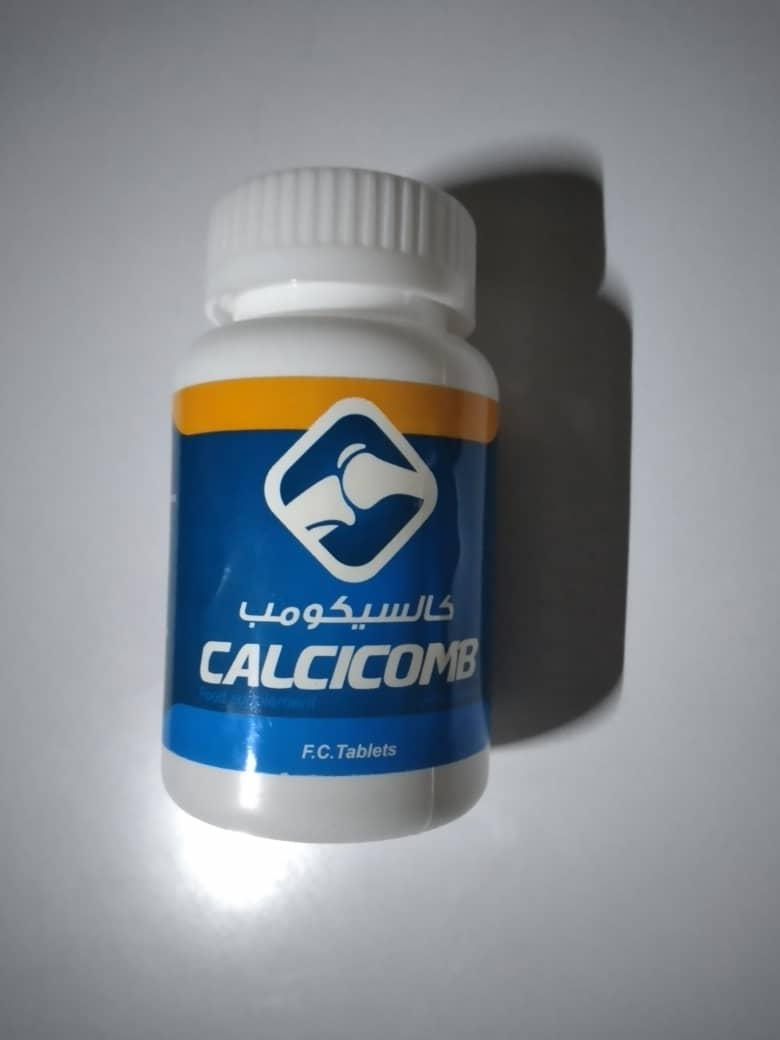Medicine: (143, 153, 507, 897)
